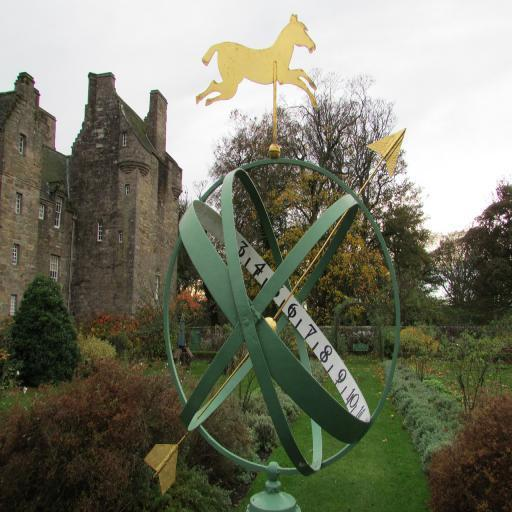horse: (193, 9, 320, 109)
